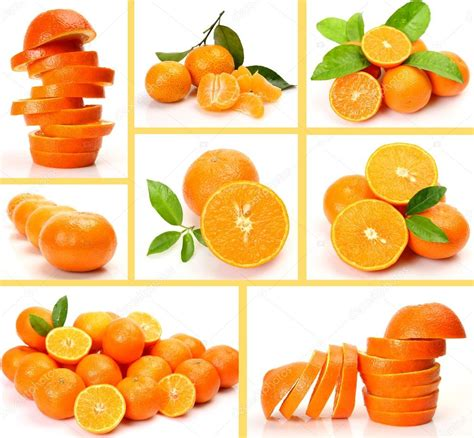orange: (184, 146, 258, 217), (36, 212, 121, 271), (402, 200, 471, 263), (376, 66, 438, 117), (36, 365, 85, 422), (114, 375, 165, 421), (175, 356, 221, 406), (100, 319, 146, 363), (187, 40, 234, 79), (12, 352, 55, 394), (202, 343, 238, 393), (74, 352, 121, 389)
